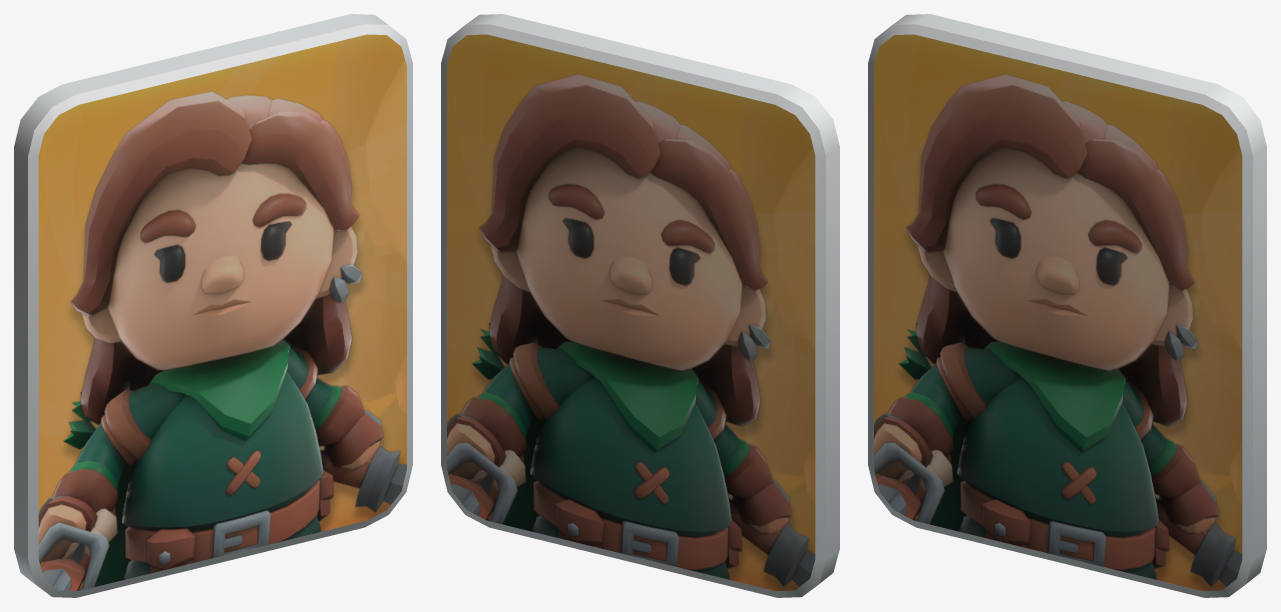
File: playercard_rogue_yellow.glb
The picture shows the model from 3 angles, left to right: view 1: azimuth 30°, elevation 25°; view 2: azimuth 150°, elevation 25°; view 3: azimuth 330°, elevation 25°; orthographic projection.
Parts seen in each view (by area): view 1: playercard_rogue_yellow; view 2: playercard_rogue_yellow; view 3: playercard_rogue_yellow.
Boxes of the visible parts, <box> form: playercard_rogue_yellow: <box>14,14,412,597</box>; playercard_rogue_yellow: <box>441,14,839,597</box>; playercard_rogue_yellow: <box>868,14,1266,597</box>.
Size of the model in its own units: 1.2 by 1.5 by 0.1.
2 materials, 2 textured.
